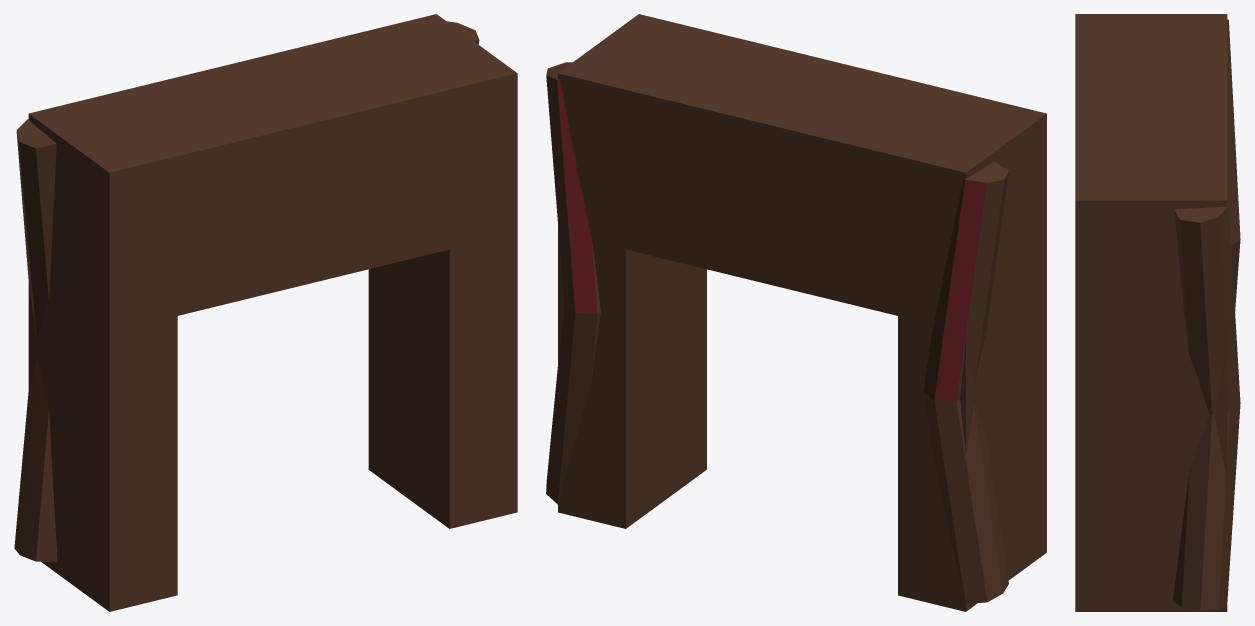
The model's file is TV_ARCH_LODs.fbx.
The picture shows the model from 3 angles, left to right: view 1: azimuth 30°, elevation 25°; view 2: azimuth 150°, elevation 25°; view 3: azimuth 270°, elevation 25°; orthographic projection. The views are drawn at different scales.
Visible parts, largest first — view 1: TV_ARCH_LOD0; view 2: TV_ARCH_LOD0; view 3: TV_ARCH_LOD0.
Boxes of the visible parts, bbox=[...] form: TV_ARCH_LOD0: bbox=[14, 14, 517, 611]; TV_ARCH_LOD0: bbox=[546, 14, 1046, 611]; TV_ARCH_LOD0: bbox=[1075, 14, 1240, 611].
Size of what is drawn, in the model's own units: 600 by 550 by 200.
